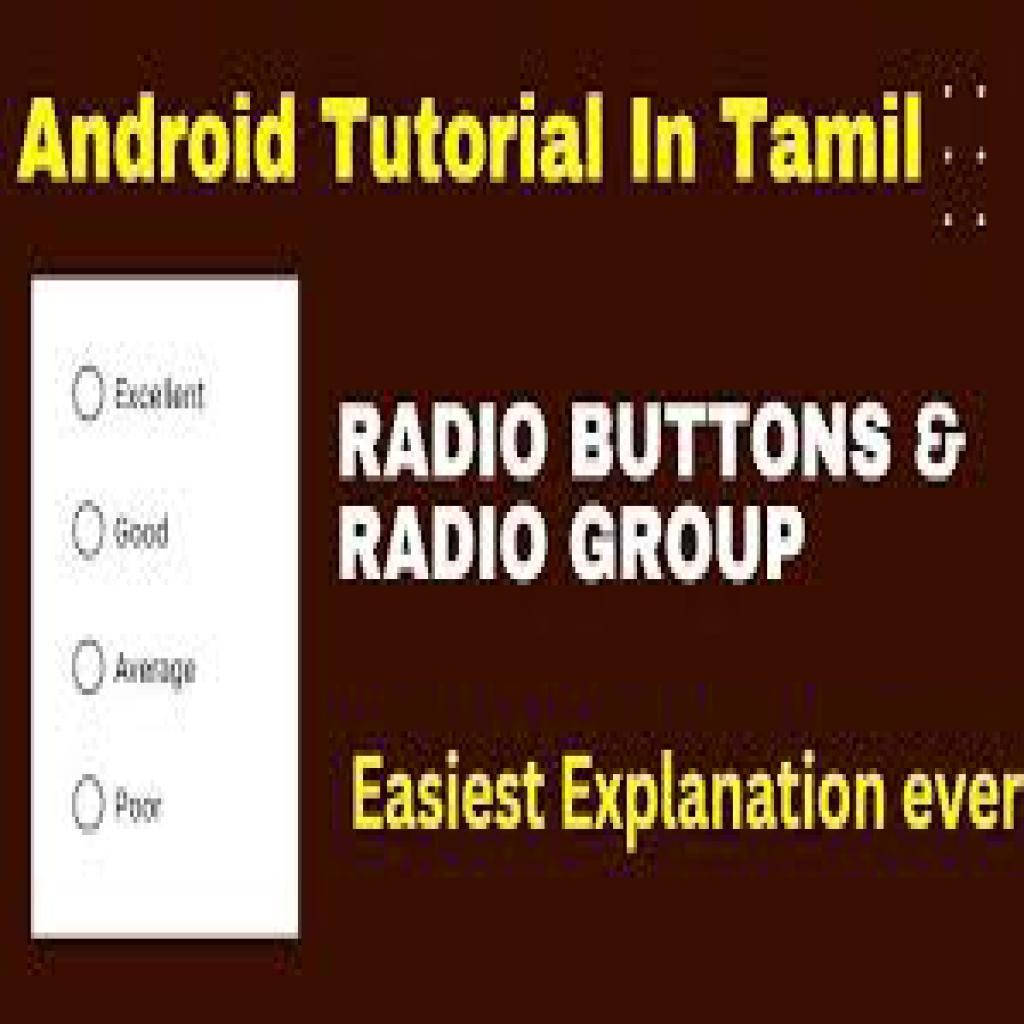label: (115, 375, 213, 420), (111, 649, 201, 690), (111, 513, 172, 556), (113, 784, 168, 830)
radio: (68, 771, 109, 842), (70, 364, 109, 428), (71, 634, 109, 699), (73, 501, 107, 567)
